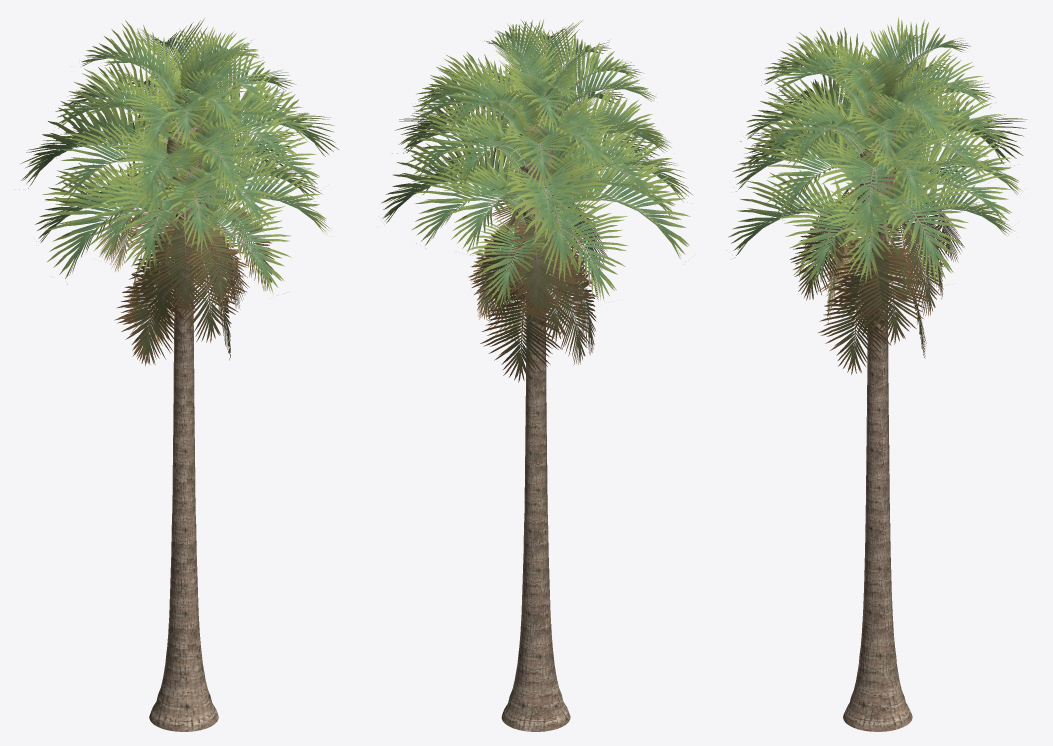
Rendered from palm_tree.glb.
The picture shows the model from 3 angles, left to right: view 1: azimuth 30°, elevation 25°; view 2: azimuth 150°, elevation 25°; view 3: azimuth 270°, elevation 25°; orthographic projection.
Visible parts, largest first — view 1: Tree_1_Palm_4_Leaf_0, Tree_1_Plam_4_Trunk_0; view 2: Tree_1_Palm_4_Leaf_0, Tree_1_Plam_4_Trunk_0; view 3: Tree_1_Palm_4_Leaf_0, Tree_1_Plam_4_Trunk_0.
Boxes of the visible parts, x1,y1,x2,y2 form: Tree_1_Palm_4_Leaf_0: (19, 18, 338, 366); Tree_1_Plam_4_Trunk_0: (149, 92, 218, 731); Tree_1_Palm_4_Leaf_0: (381, 19, 693, 382); Tree_1_Plam_4_Trunk_0: (501, 101, 570, 731); Tree_1_Palm_4_Leaf_0: (728, 17, 1027, 374); Tree_1_Plam_4_Trunk_0: (843, 96, 912, 731).
Bounding box in the file's own units: 7.09 × 15.94 × 6.6.
Materials: 2 (2 with a texture image).
